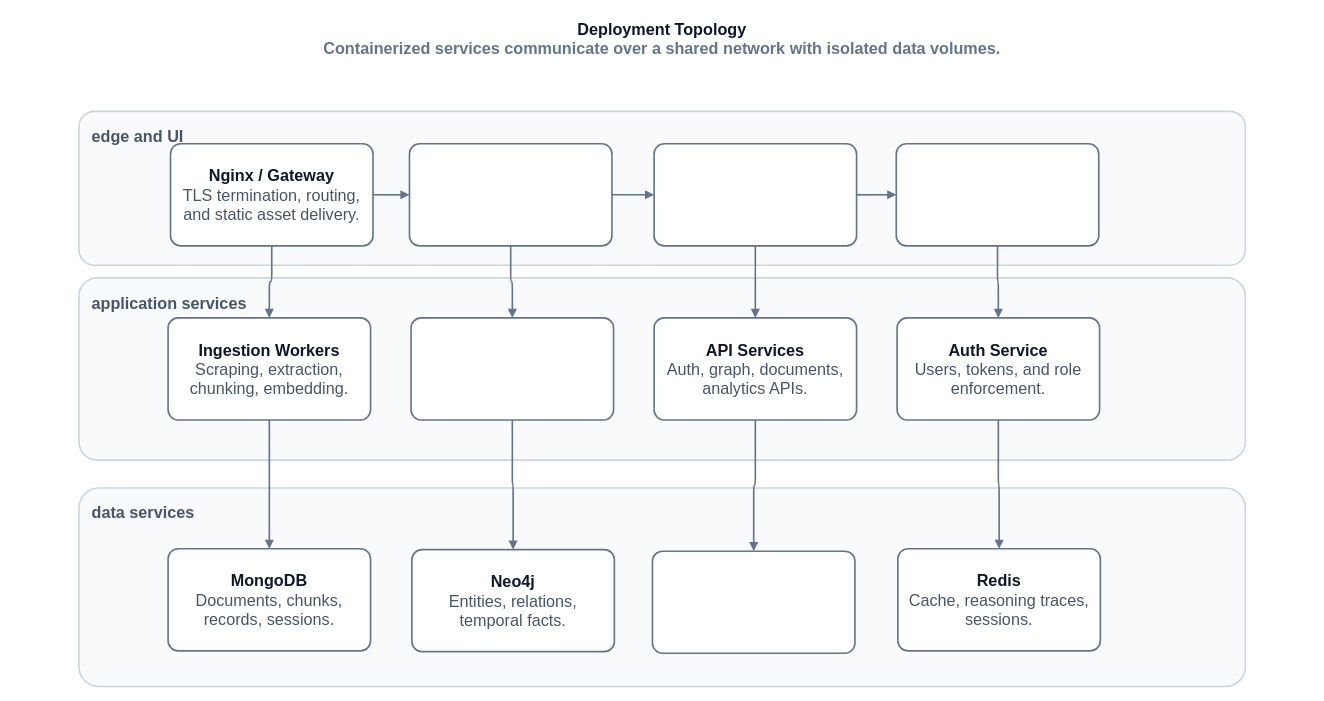
Some shapes in this 1324 by 701 pixel diagram are drawn without their labels. Here are the shapes that lost their labels. From the top down, the centre of each, then its label:
point (510, 194): Frontend React UI served through Nginx.
point (755, 194): Backend API FastAPI routes and streaming responses.
point (997, 194): Admin UI Operational dashboard and controls.
point (512, 368): Reasoning Engine Hybrid retrieval, graph expansion, synthesis.
point (753, 602): ZVec Vector storage and similarity search.
